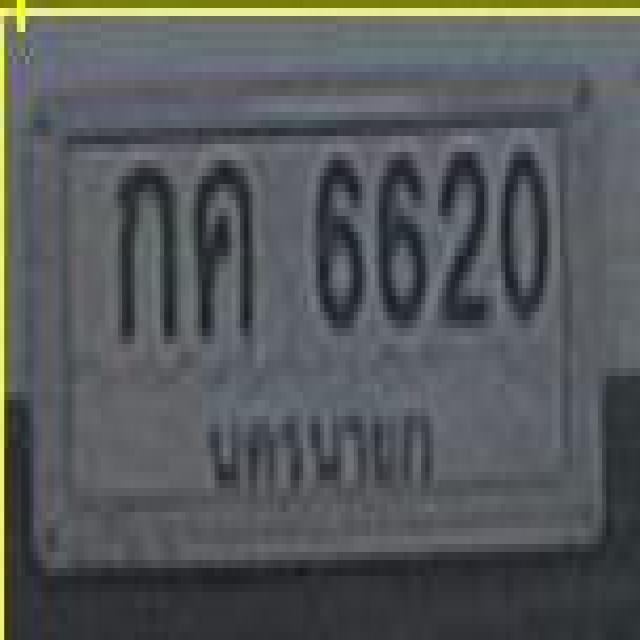license_plate: (37, 60, 608, 552)
